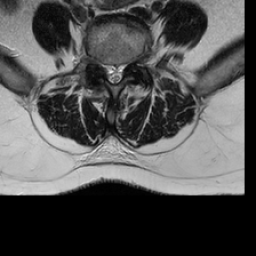CCS_normal: (110, 54, 118, 92)
LFS_severe_stenosis: (125, 50, 133, 74)
LLS_normal: (118, 54, 125, 86)
RFS_stenosis: (94, 50, 102, 76)
RLS_normal: (102, 55, 110, 85)
